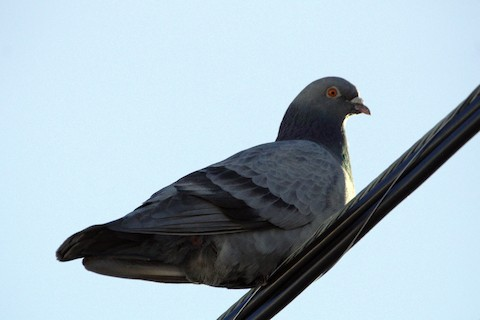pigeon: (44, 67, 383, 296)
